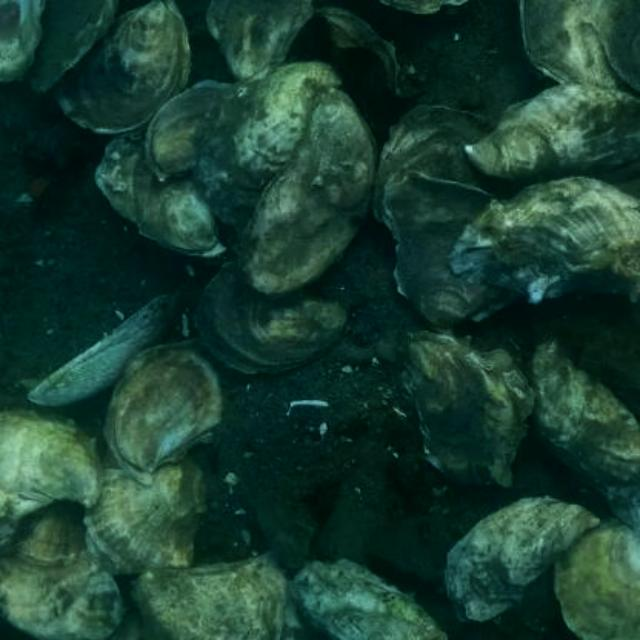Oyster-Closed: (239, 86, 378, 296), (193, 59, 341, 233), (452, 177, 640, 303), (382, 173, 519, 327), (401, 331, 535, 486), (532, 338, 640, 529), (445, 495, 599, 621), (52, 0, 192, 134), (104, 337, 231, 483), (31, 290, 183, 407), (95, 126, 225, 258), (467, 83, 640, 182), (195, 263, 346, 375), (85, 446, 208, 577), (372, 106, 493, 223), (135, 550, 288, 640), (293, 560, 450, 640), (518, 0, 640, 99), (0, 408, 104, 518), (0, 550, 126, 640), (555, 515, 640, 640), (144, 78, 239, 183), (320, 7, 425, 97), (207, 0, 313, 81), (29, 0, 118, 91), (12, 503, 87, 565), (0, 0, 45, 81), (601, 0, 640, 89)
